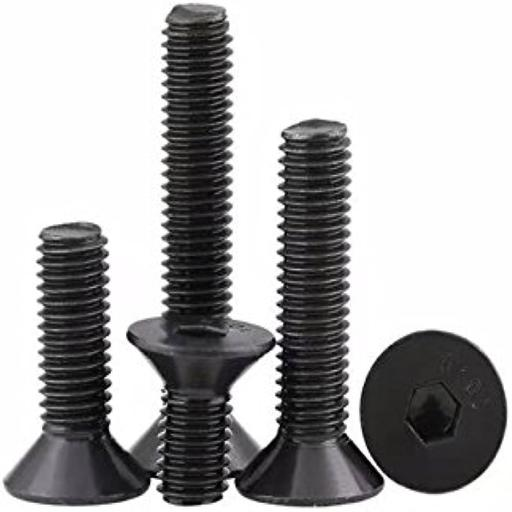Hex-Allen: (359, 325, 506, 496)
